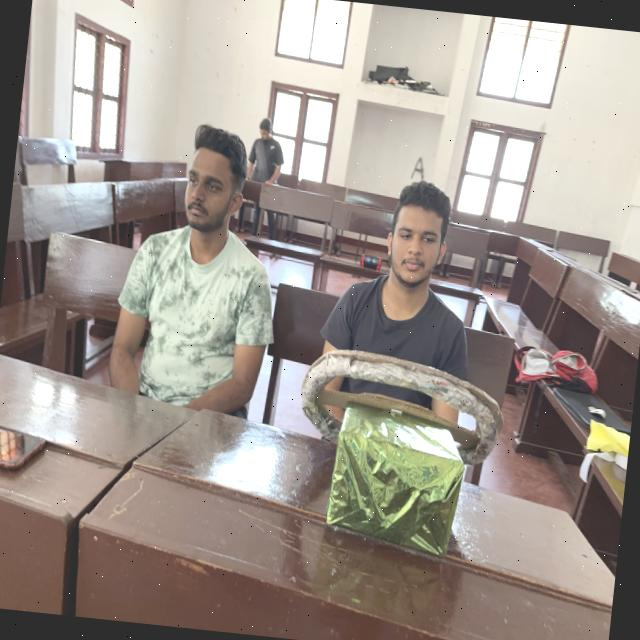Helmet: (98, 224, 283, 441), (305, 281, 471, 474)
